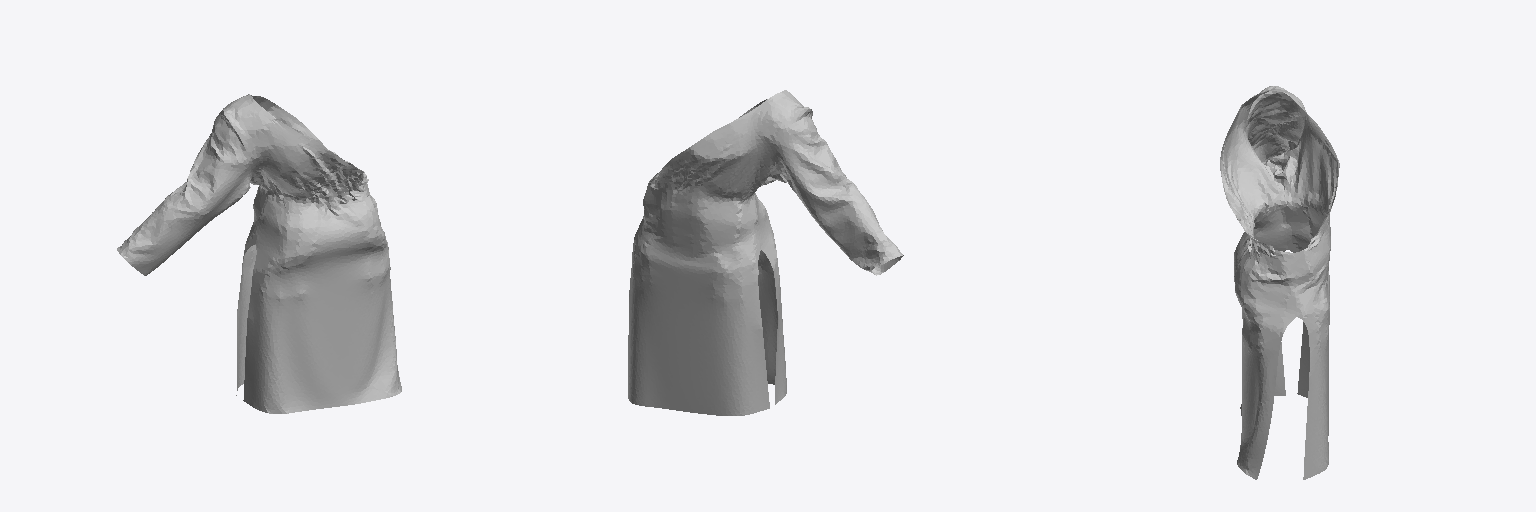
File: SotanaHigh.obj
The picture shows the model from 3 angles: view 1: azimuth 30°, elevation 25°; view 2: azimuth 150°, elevation 25°; view 3: azimuth 270°, elevation 25°; orthographic projection.
Size of the model in its own units: 1262 by 1446 by 487.